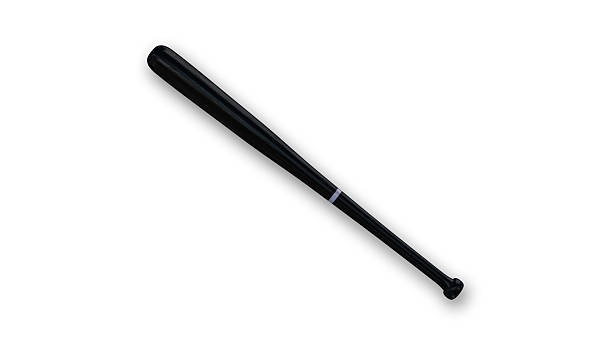bita: (146, 43, 460, 298)
